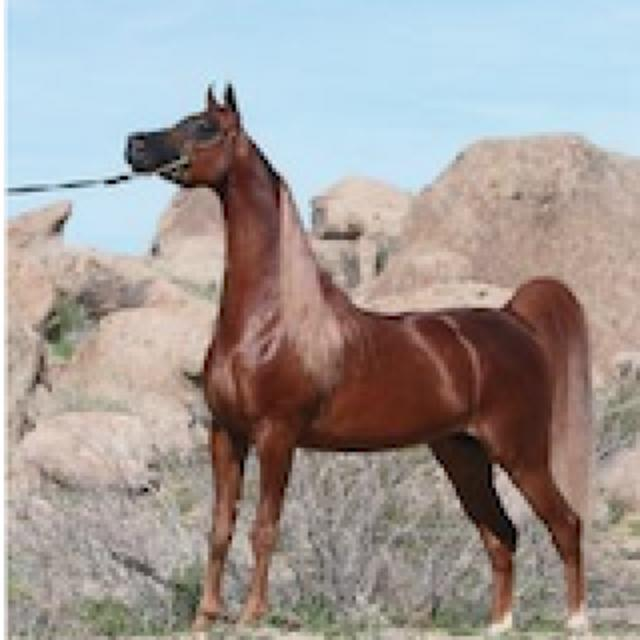Horse: (120, 76, 604, 636)
